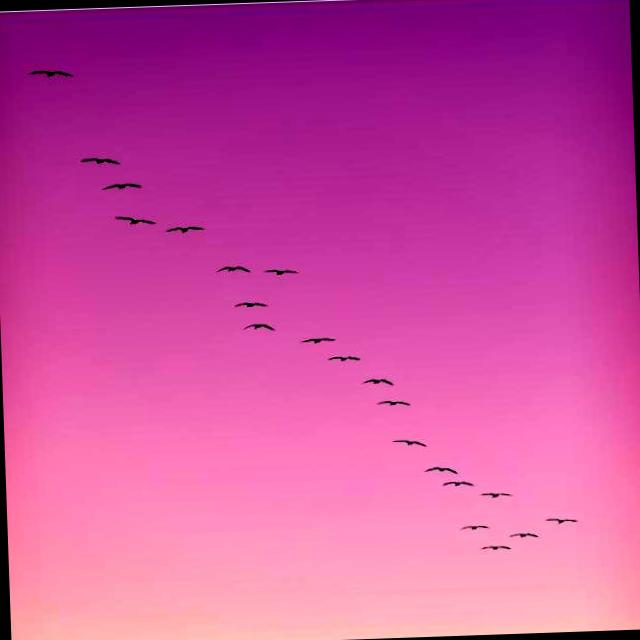bird: (105, 204, 157, 230), (255, 262, 306, 284), (161, 222, 217, 242), (216, 253, 253, 283), (366, 394, 433, 410), (222, 296, 268, 318), (232, 318, 284, 337), (27, 64, 73, 84), (78, 150, 124, 170), (95, 178, 146, 195), (391, 432, 434, 452), (322, 351, 378, 364), (294, 334, 338, 349), (356, 376, 404, 388), (440, 478, 475, 491), (424, 463, 460, 475), (456, 520, 489, 532), (480, 490, 516, 500), (507, 531, 542, 541), (544, 515, 578, 525), (479, 544, 511, 554)
